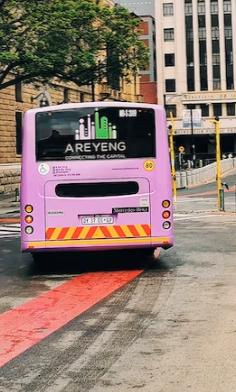vehicle: (20, 102, 173, 260)
